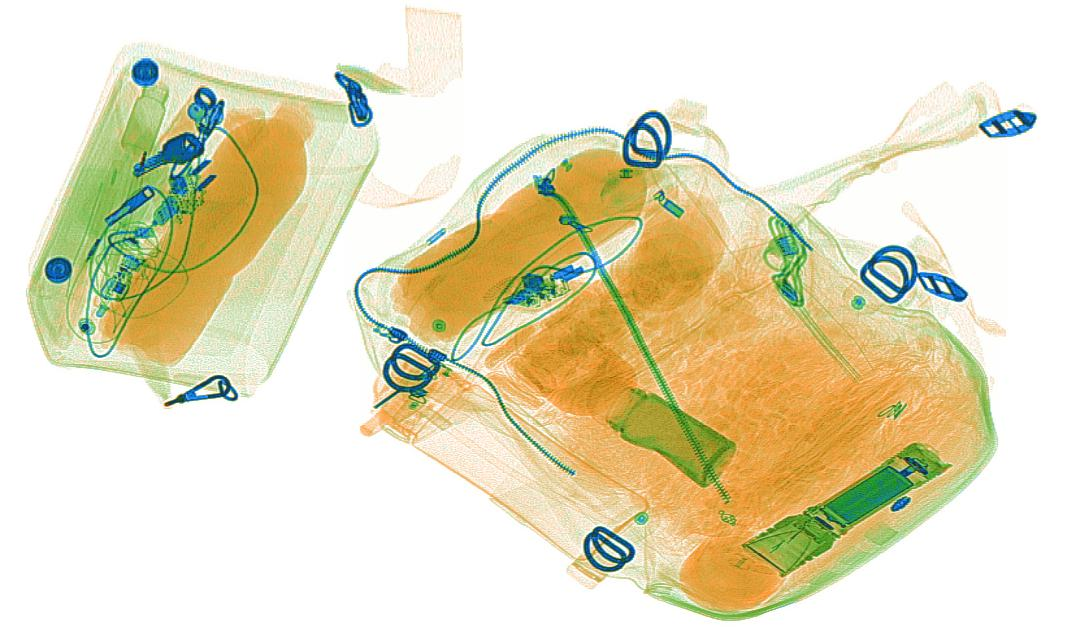battery: (815, 462, 916, 528)
